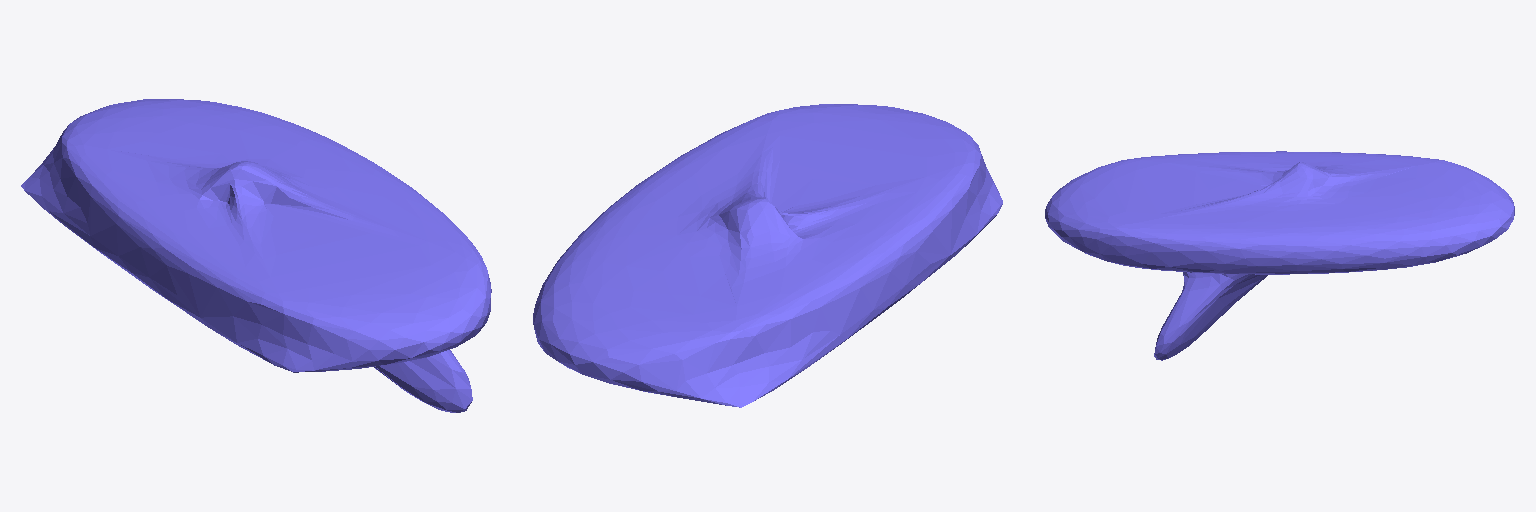
URDF robot description (blob000):

<robot name="blob000">
  <link name="random_obj_000">
    <contact>
      <lateral_friction value="1.0"/>
      <rolling_friction value="0.0"/>
      <inertia_scaling value="3.0"/>
      <contact_cfm value="0.0"/>
      <contact_erp value="1.0"/>
    </contact>
    <inertial>
      <origin rpy="0 0 0" xyz="0 0 0"/>
      <mass value="0.0914"/>
      <inertia ixx="1" ixy="0" ixz="0" iyy="1" iyz="0" izz="0"/>
    </inertial>
    <visual>
      <origin rpy="0 0 0" xyz="0 0 0"/>
      <geometry>
        <mesh filename="000.stl" scale="0.0076 0.0076 0.0076"/>
      </geometry>
      <material name="blockmat">
        <color rgba="0.54 0.51 1.00 1"/>
      </material>
    </visual>
    <collision>
      <origin rpy="0 0 0" xyz="0 0 0"/>
      <geometry>
        <mesh filename="000_coll.stl" scale="0.0076 0.0076 0.0076"/>
      </geometry>
    </collision>
  </link>
</robot>

--- Facts derived from the render (not from the file) ---
Views: 3 orthographic renders of the robot side by side, from view 1: azimuth 30°, elevation 25°; view 2: azimuth 150°, elevation 25°; view 3: azimuth 270°, elevation 25°.
Model blob000 with 1 links and 0 joints (none), rooted at random_obj_000, posed all joints at 0.
Visible links, largest first — view 1: random_obj_000; view 2: random_obj_000; view 3: random_obj_000.
Boxes of the visible links, left/top/right/bottom form: random_obj_000: left=21, top=99, right=491, bottom=412; random_obj_000: left=533, top=104, right=1002, bottom=407; random_obj_000: left=1045, top=151, right=1514, bottom=360.
Bounding box of the posed robot: 0.0391 × 0.0816 × 0.0292 m (x, y, z).
Meshes: 1 distinct files referenced, 1 mesh visuals loaded (1 binary STL).